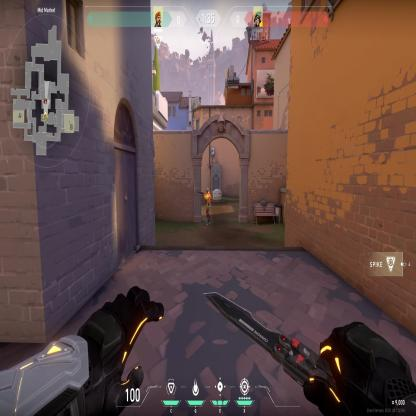enemy: (203, 185, 211, 227)
